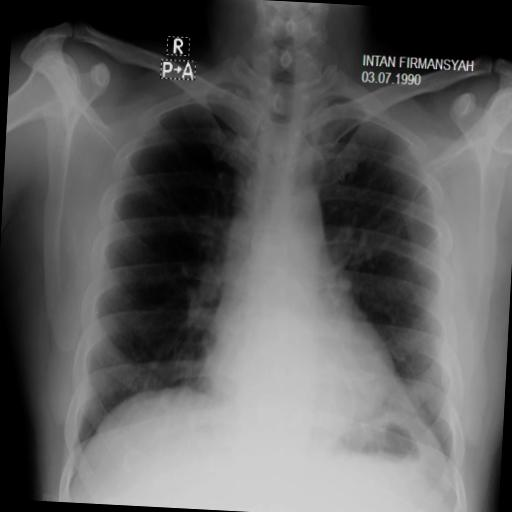kardiomegali: (198, 249, 425, 439)
